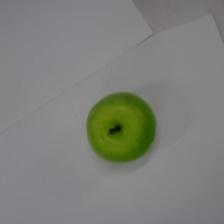green: (87, 92, 156, 162)
